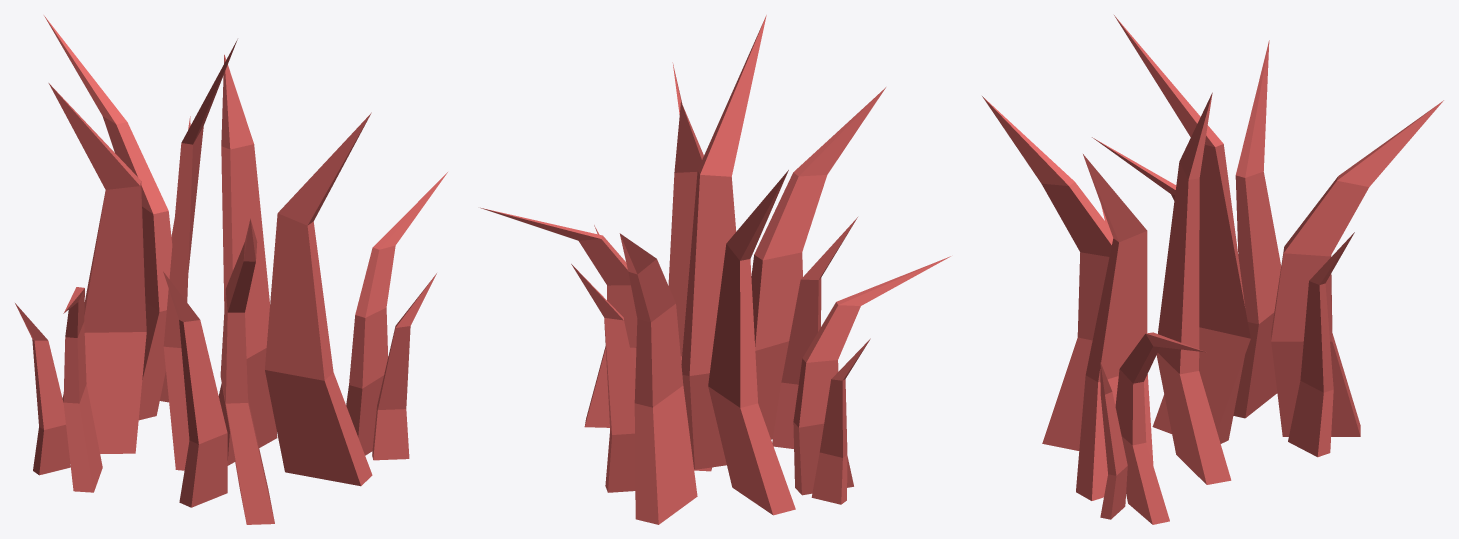
Rendered from Grass.glb.
3 renders of one model, left to right at view 1: azimuth 30°, elevation 25°; view 2: azimuth 150°, elevation 25°; view 3: azimuth 270°, elevation 25°, orthographic. The views are drawn at different scales.
Visible parts, largest first — view 1: Cone; view 2: Cone; view 3: Cone.
Boxes of the visible parts, x1,y1,x2,y2 form: Cone: (15,15,447,524); Cone: (480,15,950,524); Cone: (982,15,1443,524).
Size of the model in its own units: 0.6646 by 0.6535 by 0.6349.
